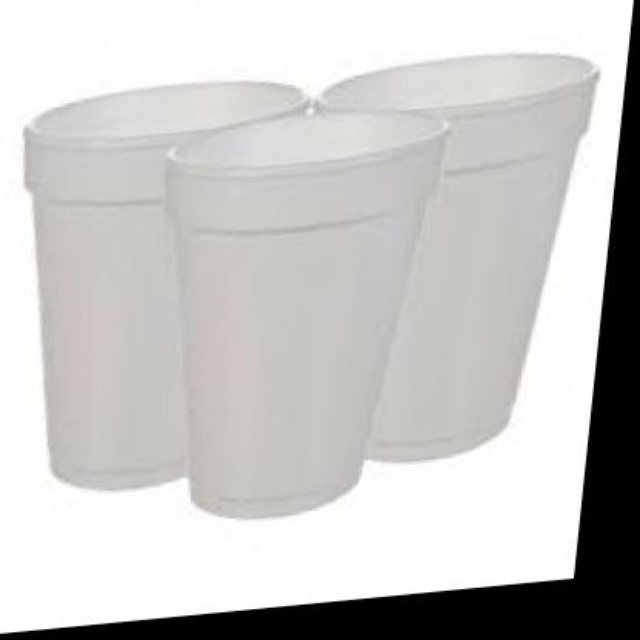trash: (26, 54, 597, 515), (25, 82, 306, 486), (169, 111, 446, 515), (323, 54, 597, 458)
